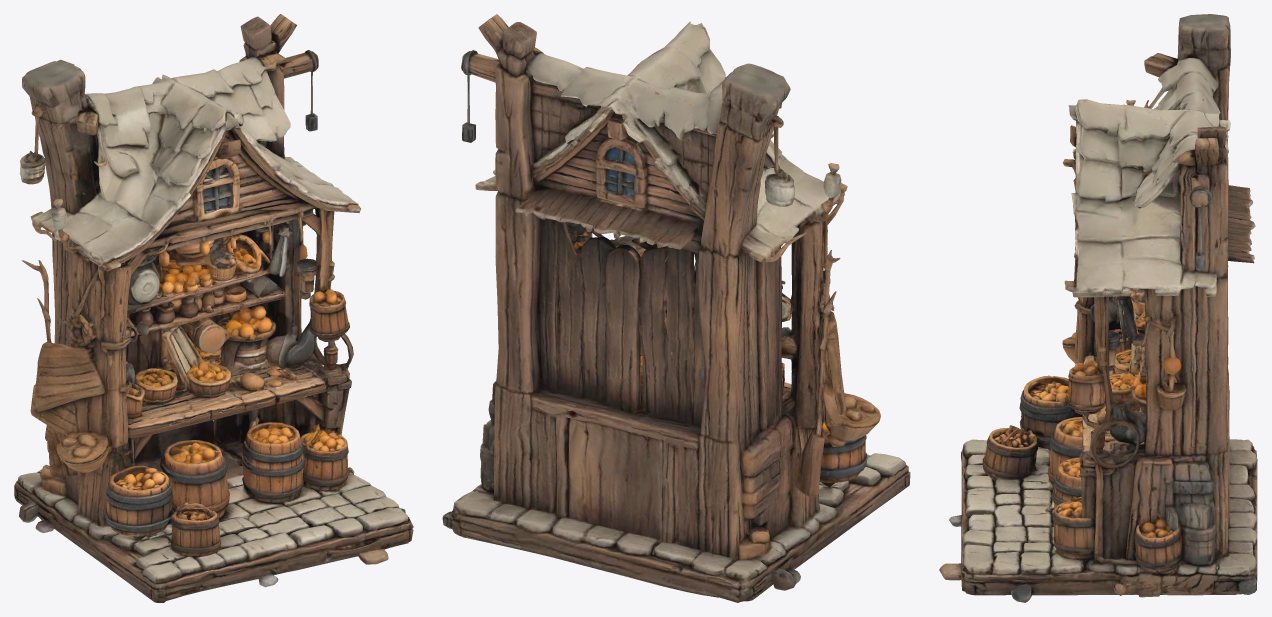
Rendered from lib_stall_timber.glb.
3 renders of one model, left to right at view 1: azimuth 30°, elevation 25°; view 2: azimuth 150°, elevation 25°; view 3: azimuth 270°, elevation 25°, orthographic. The views are drawn at different scales.
Bounding box in the file's own units: 1.39 × 1.9 × 1.19.
Materials: 1 (1 with a texture image).
